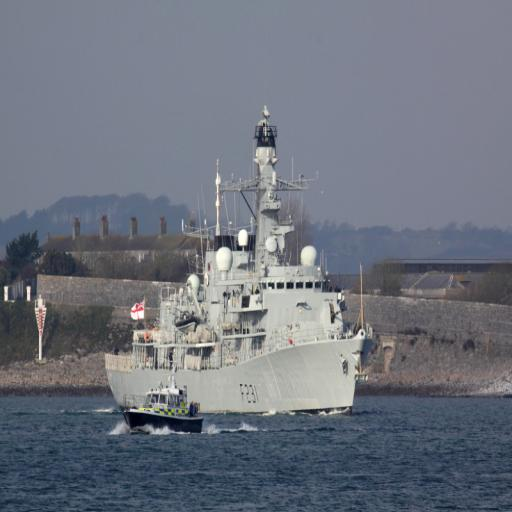Fragata: (102, 100, 377, 422)
